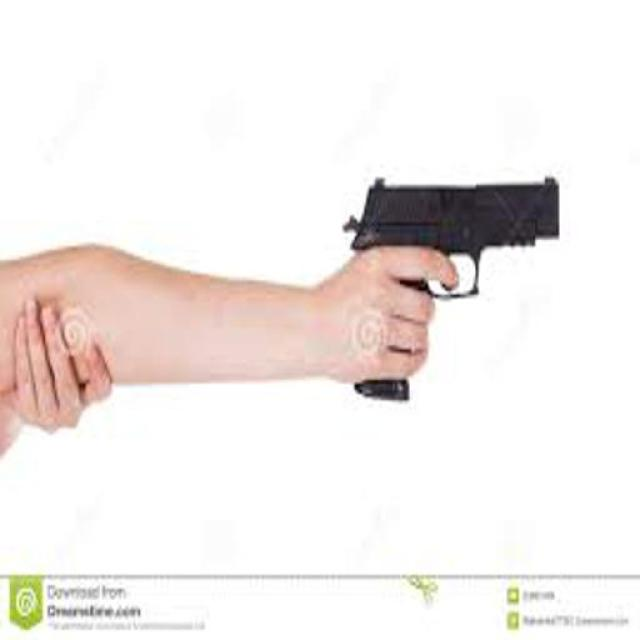pistol: (344, 170, 564, 410)
